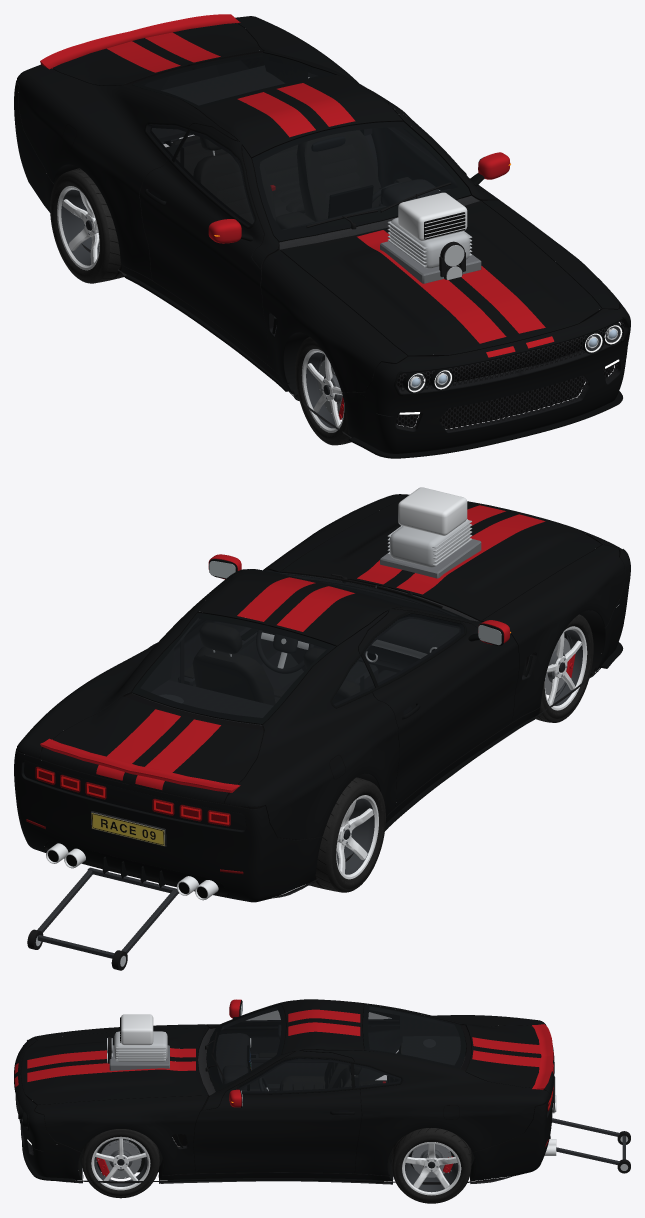
Rendered from drag-coupe.glb.
The picture shows the model from 3 angles, top to bottom: view 1: azimuth 30°, elevation 25°; view 2: azimuth 150°, elevation 25°; view 3: azimuth 270°, elevation 25°; orthographic projection. The views are drawn at different scales.
Parts seen in each view (by area): view 1: Body, Wheel_RR, Wheel_FR; view 2: Body, Wheel_RR, Wheel_FR, Steering_Wheel; view 3: Body, Wheel_RL, Wheel_FL.
Part boxes in pixels (x1=…): Body: x1=14, y1=14, x2=630, y2=458; Wheel_RR: x1=50, y1=168, x2=126, y2=283; Wheel_FR: x1=295, y1=337, x2=351, y2=445; Body: x1=14, y1=487, x2=630, y2=970; Wheel_RR: x1=306, y1=777, x2=385, y2=892; Wheel_FR: x1=534, y1=614, x2=593, y2=722; Steering_Wheel: x1=256, y1=629, x2=314, y2=673; Body: x1=14, y1=999, x2=630, y2=1184; Wheel_RL: x1=391, y1=1128, x2=471, y2=1203; Wheel_FL: x1=82, y1=1129, x2=159, y2=1198.
Bounding box in the file's own units: 2.11 × 1.37 × 5.54.
Materials: 60 (11 with a texture image).
